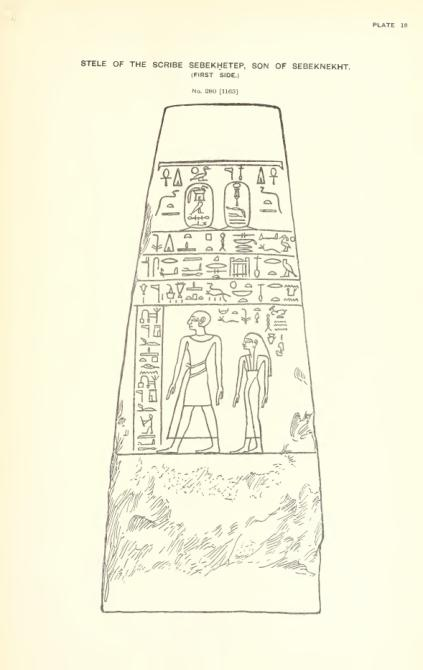circle: (219, 180, 253, 229), (180, 182, 215, 229)
